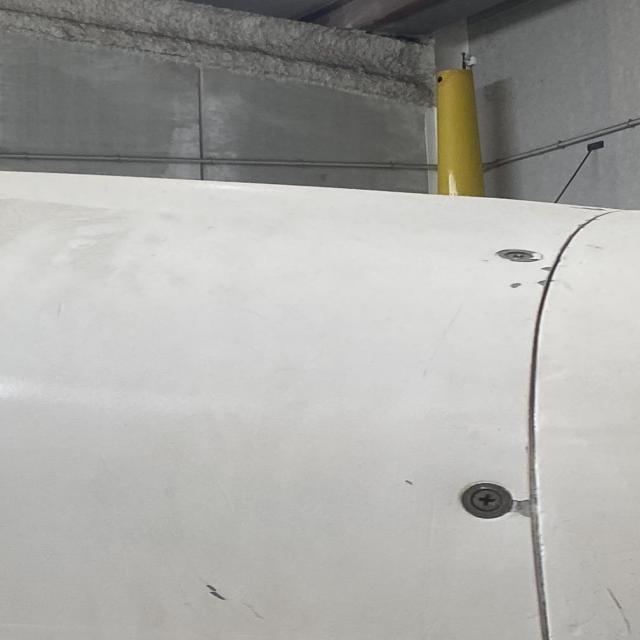Paint-off: (555, 604, 615, 640), (221, 589, 271, 629), (516, 500, 541, 520), (206, 583, 229, 604), (603, 635, 640, 640), (541, 265, 553, 274), (536, 277, 545, 289), (508, 282, 522, 289), (405, 480, 415, 487)
